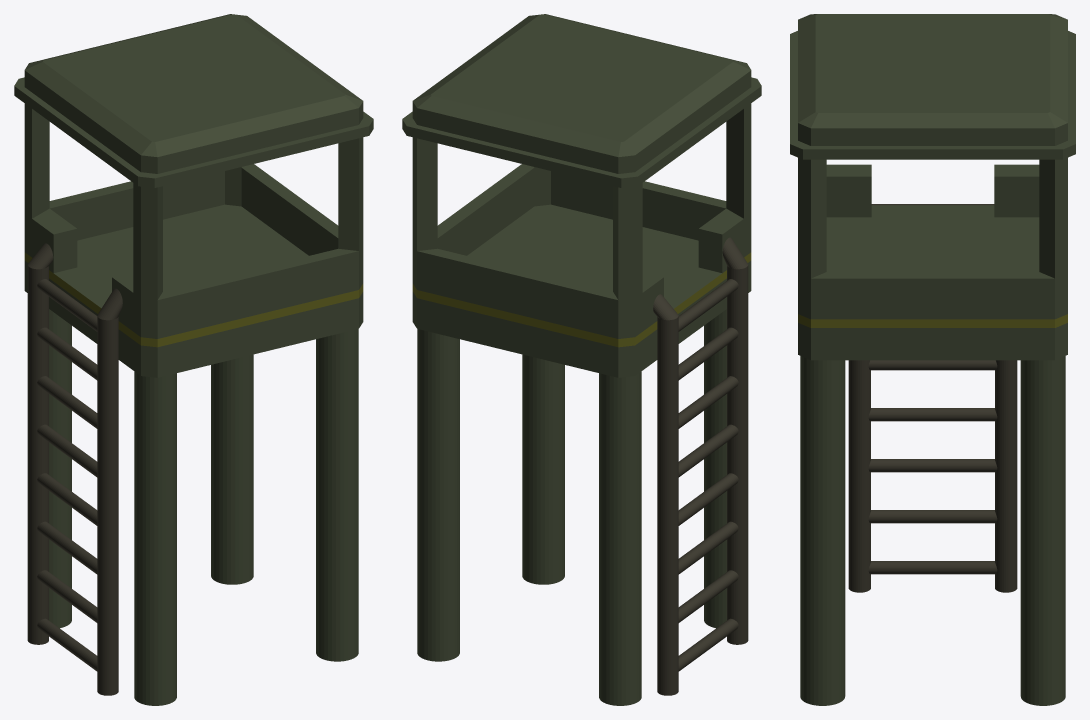
The model's file is WatchTower.fbx.
3 renders of one model, left to right at view 1: azimuth 30°, elevation 25°; view 2: azimuth 150°, elevation 25°; view 3: azimuth 270°, elevation 25°, orthographic. The views are drawn at different scales.
Visible parts, largest first — view 1: WatchTower, Ladder; view 2: WatchTower, Ladder; view 3: WatchTower, Ladder.
Part boxes in pixels (x1=…): WatchTower: x1=14, y1=14, x2=373, y2=705; Ladder: x1=27, y1=243, x2=122, y2=695; WatchTower: x1=402, y1=14, x2=761, y2=705; Ladder: x1=653, y1=237, x2=748, y2=695; WatchTower: x1=790, y1=14, x2=1075, y2=705; Ladder: x1=848, y1=204, x2=1017, y2=592.
Size of the model in its own units: 1336 by 2875 by 1271.
